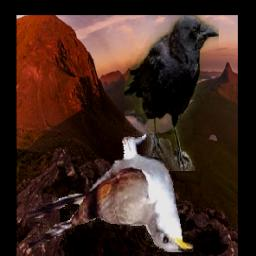Crow: (125, 16, 220, 172)
Cuckoo: (29, 135, 195, 253)
